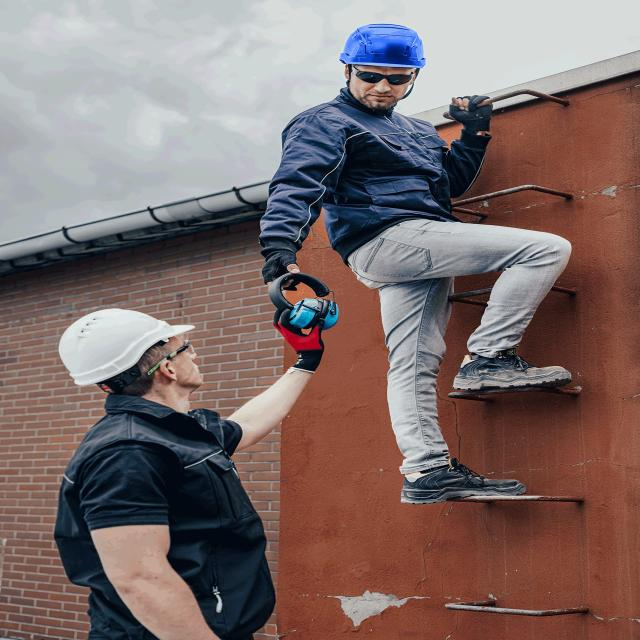secure person: (54, 309, 316, 640), (259, 24, 456, 293)
